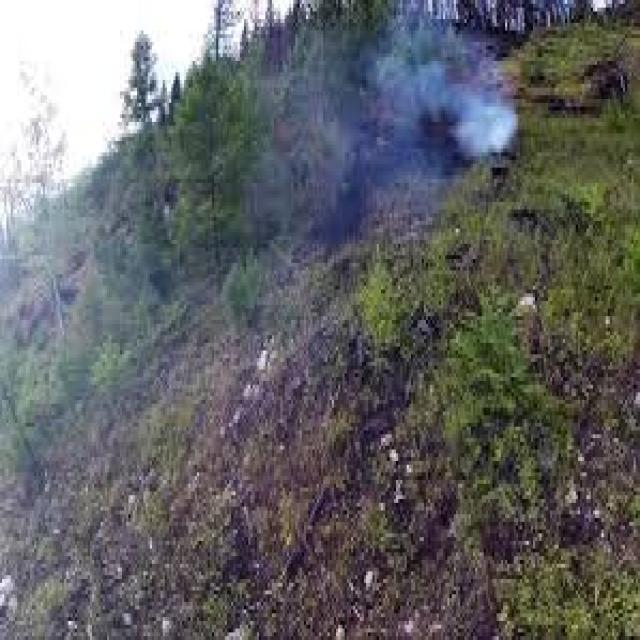Smoke: (249, 16, 521, 268)
